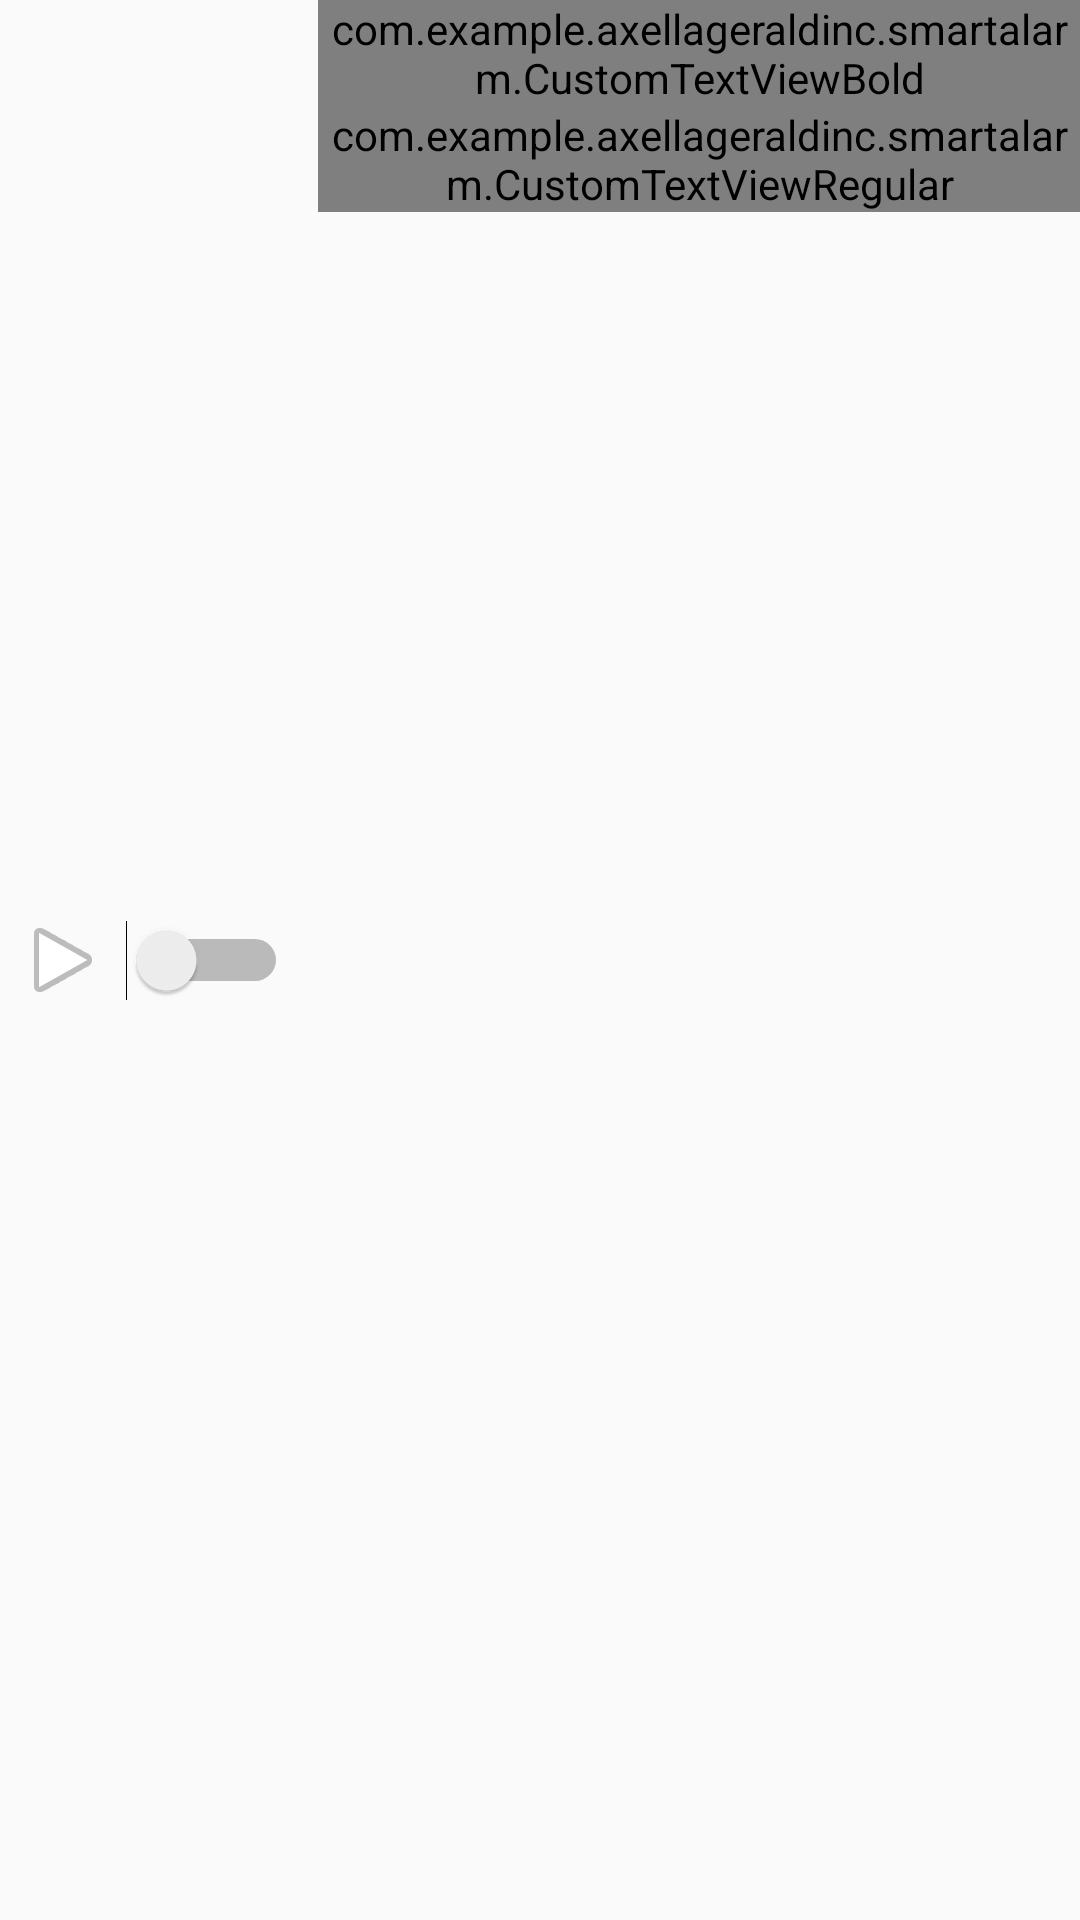

Screen size 1080px×1920px. Icon name, then its center in pixels as point (x, y):
play: point (63, 960)
